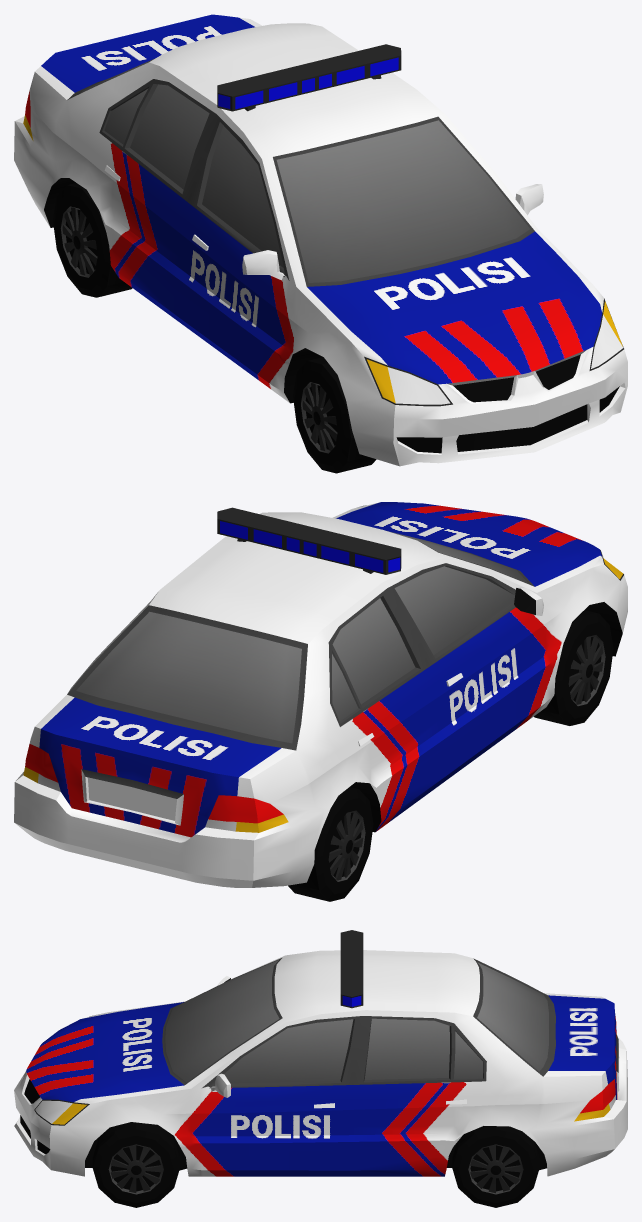
File: car-police-sedan.compressed.glb
3 views of the same model, one above another, from view 1: azimuth 30°, elevation 25°; view 2: azimuth 150°, elevation 25°; view 3: azimuth 270°, elevation 25° (orthographic). The views are drawn at different scales.
Visible parts, largest first — view 1: body-Object_3:body:0, lightbar-Object_3:lightbar:1, front-left-Object_3:front-left:4, rear-left-Object_3:rear-left:5, front-left-Object_3:front-left:5, rear-left-Object_3:rear-left:6; view 2: body-Object_3:body:0, lightbar-Object_3:lightbar:1, front-left-Object_3:front-left:4, rear-left-Object_3:rear-left:5, rear-left-Object_3:rear-left:6, front-left-Object_3:front-left:5; view 3: body-Object_3:body:0, front-right-Object_3:front-right:2, rear-right-Object_3:rear-right:3, lightbar-Object_3:lightbar:1, rear-right-Object_3:rear-right:4, front-right-Object_3:front-right:3.
Part boxes in pixels (box(x1,y1,x2,y2)): body-Object_3:body:0: box(14, 14, 627, 466); lightbar-Object_3:lightbar:1: box(217, 44, 401, 111); front-left-Object_3:front-left:4: box(293, 357, 376, 473); rear-left-Object_3:rear-left:5: box(53, 183, 132, 297); front-left-Object_3:front-left:5: box(302, 383, 337, 450); rear-left-Object_3:rear-left:6: box(62, 207, 97, 275); body-Object_3:body:0: box(14, 502, 627, 887); lightbar-Object_3:lightbar:1: box(217, 507, 401, 574); front-left-Object_3:front-left:4: box(534, 610, 613, 725); rear-left-Object_3:rear-left:5: box(288, 787, 373, 901); rear-left-Object_3:rear-left:6: box(328, 812, 363, 880); front-left-Object_3:front-left:5: box(568, 636, 603, 704); body-Object_3:body:0: box(14, 950, 627, 1176); front-right-Object_3:front-right:2: box(92, 1122, 179, 1207); rear-right-Object_3:rear-right:3: box(452, 1126, 539, 1207); lightbar-Object_3:lightbar:1: box(340, 930, 363, 1008); rear-right-Object_3:rear-right:4: box(470, 1145, 522, 1193); front-right-Object_3:front-right:3: box(110, 1145, 162, 1192).
Size of the model in its own units: 1.94 by 1.61 by 4.57.
1 material, 1 textured.
